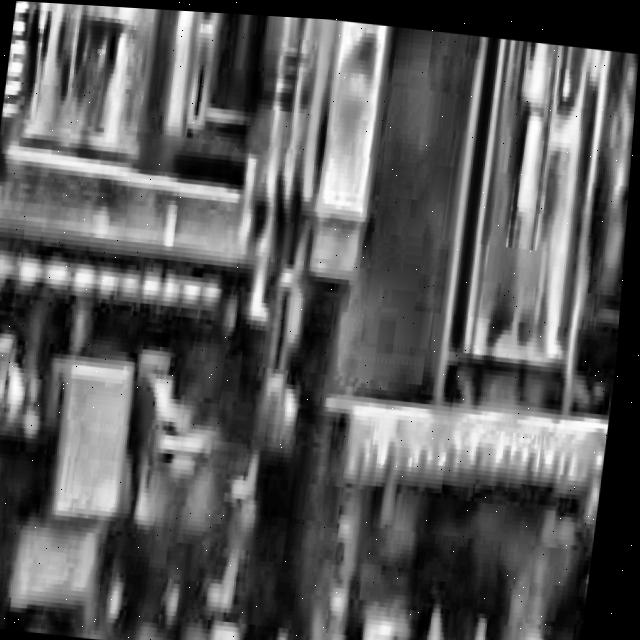Kereta: (262, 14, 640, 613)
Lokomotif: (0, 0, 421, 640)
